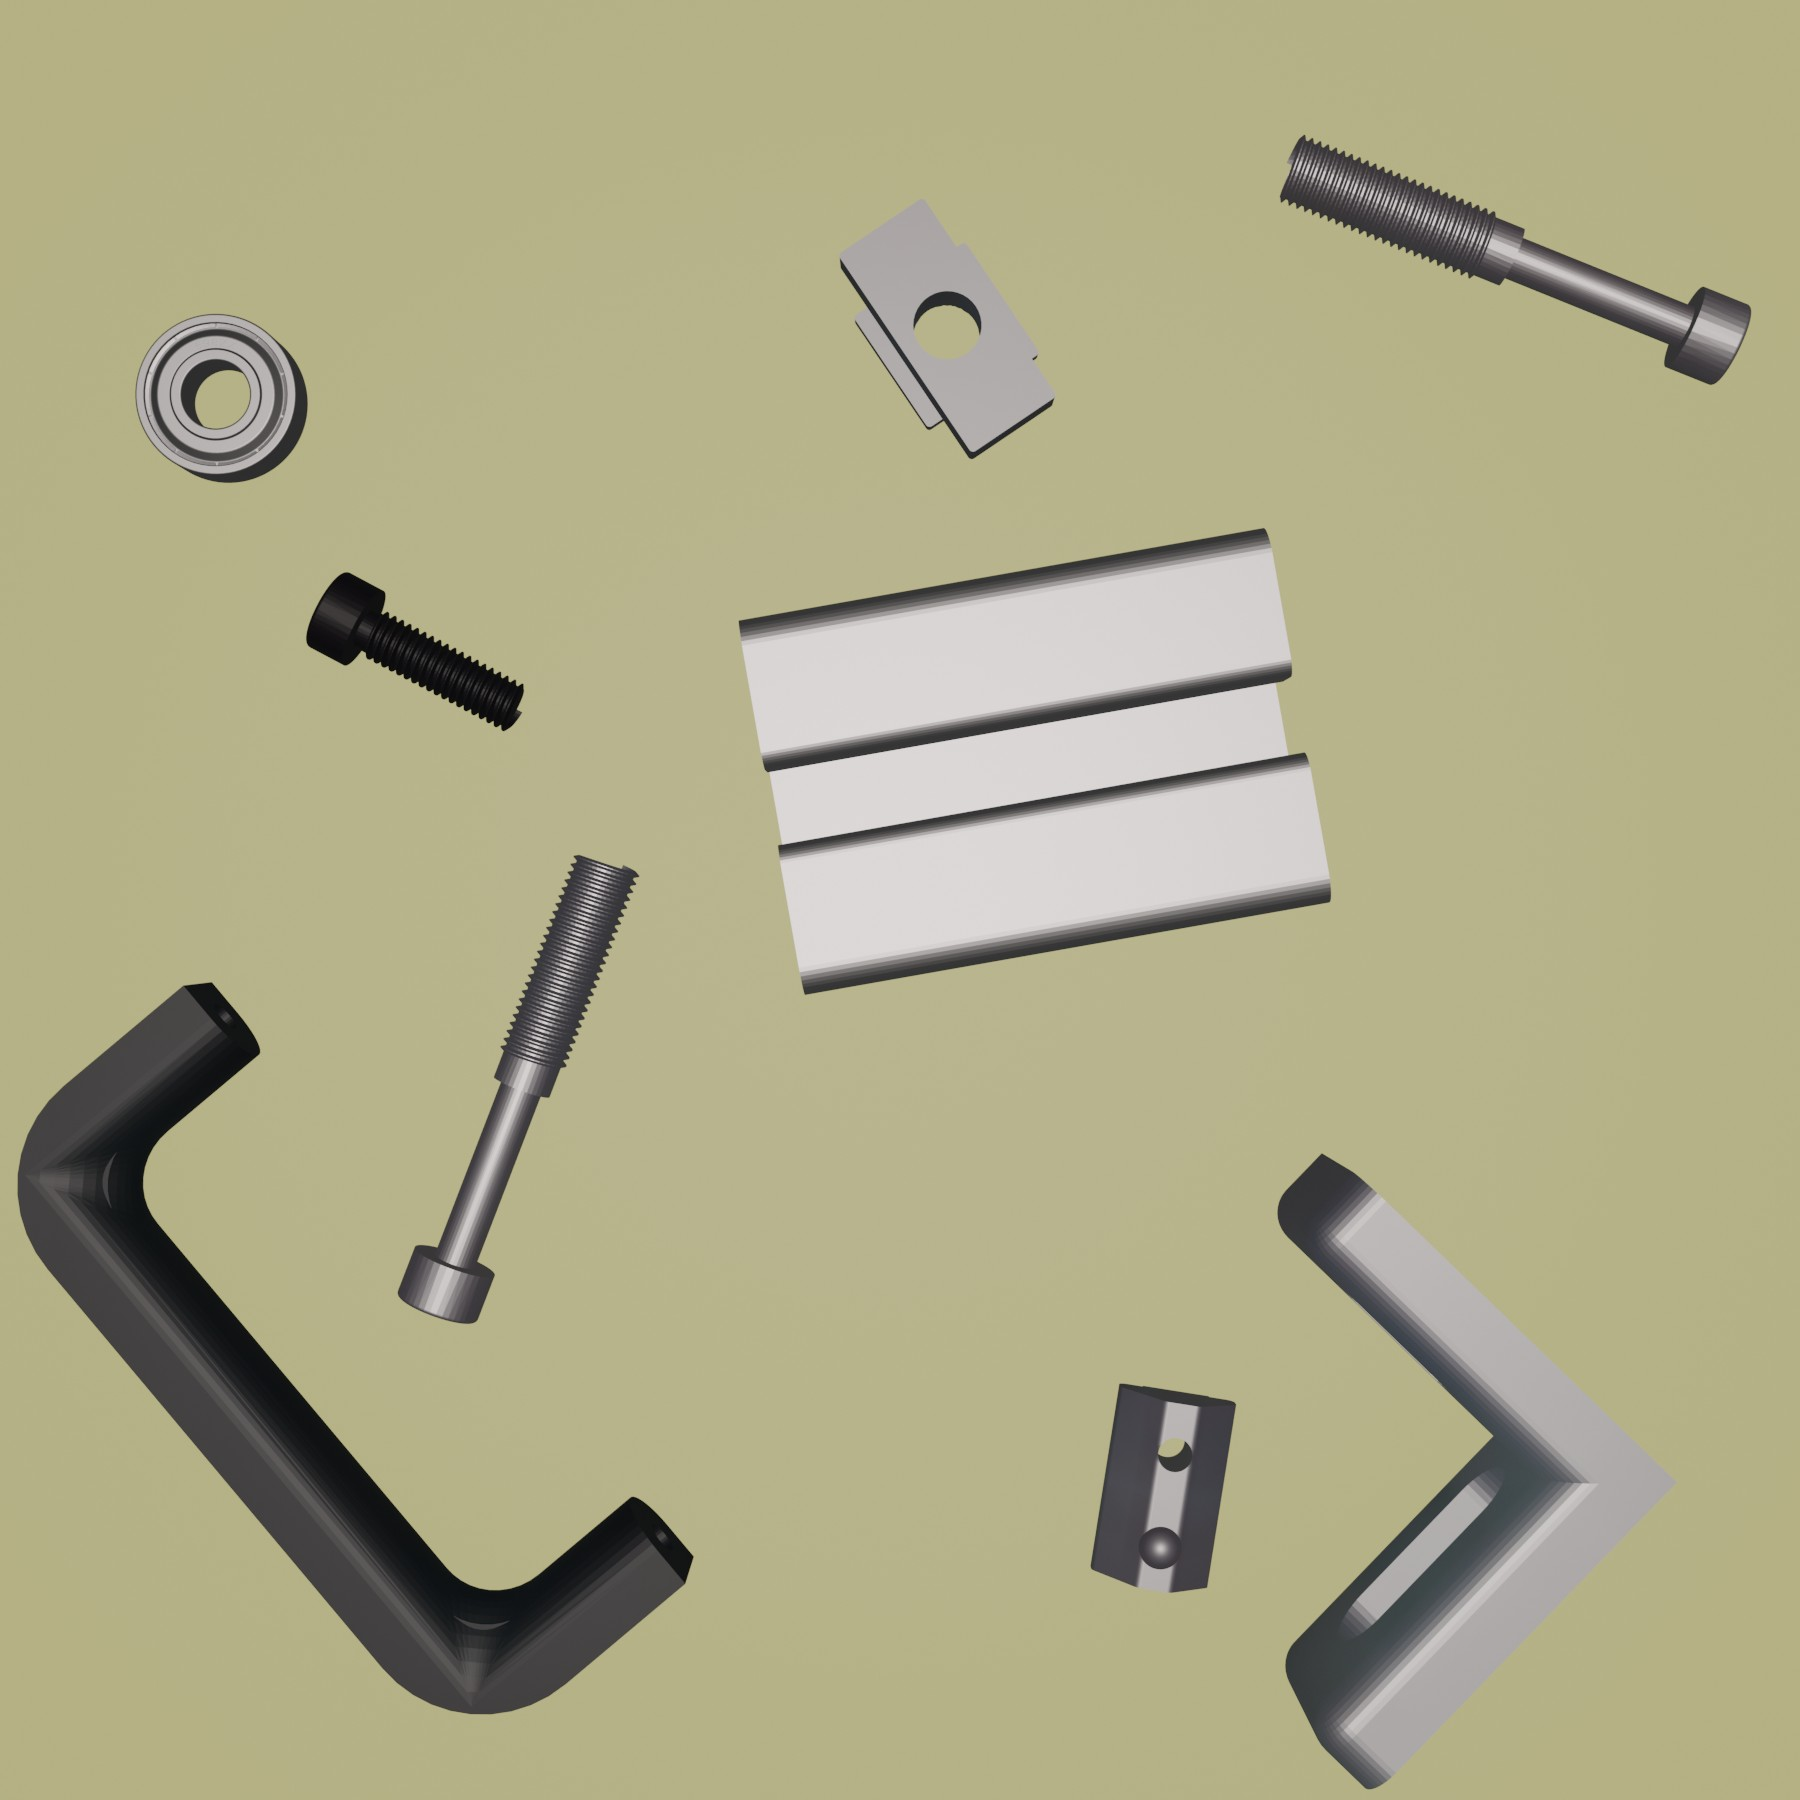Aluminium Extension: (735, 524, 1334, 997)
Ball Bearing: (132, 312, 308, 485)
Multiwinkel: (1274, 1152, 1680, 1793)
Pull Handle: (16, 977, 696, 1718)
Shoulder Socket Head Cap Screw: (1271, 132, 1755, 384), (396, 849, 641, 1325)
Socket Head Cap Screw: (300, 570, 527, 732)
T Nut Square: (836, 191, 1058, 462)
T Spring Nut: (1086, 1376, 1240, 1596)
